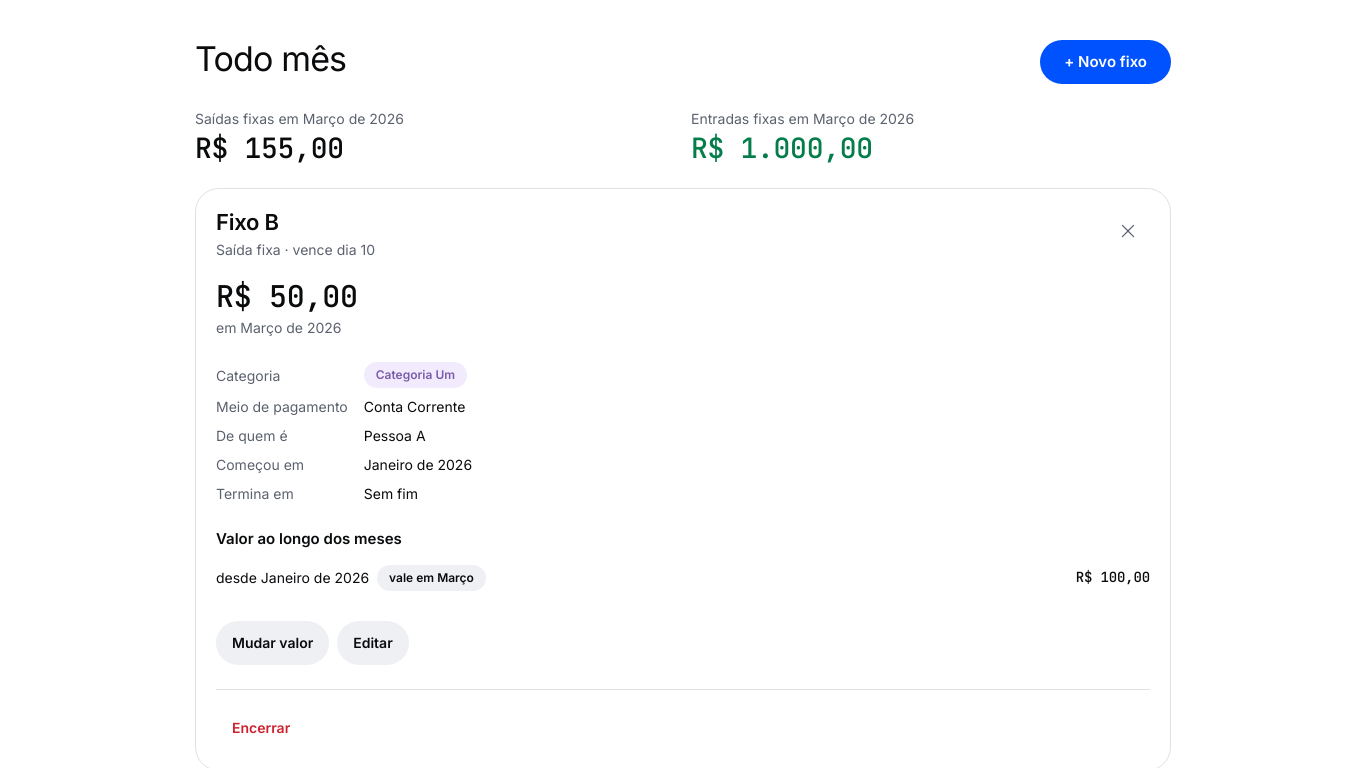
Scenario: o endereço com a navegação pendente (FIXCOL-09, ACs 1 e 4) › com B aberto e a URL com ele, fechar e logo reabrir B pede o endereço com `?fixo=rec-b`
Click the button named "Fechar" at (1128, 231), box [1106, 209, 1150, 253]
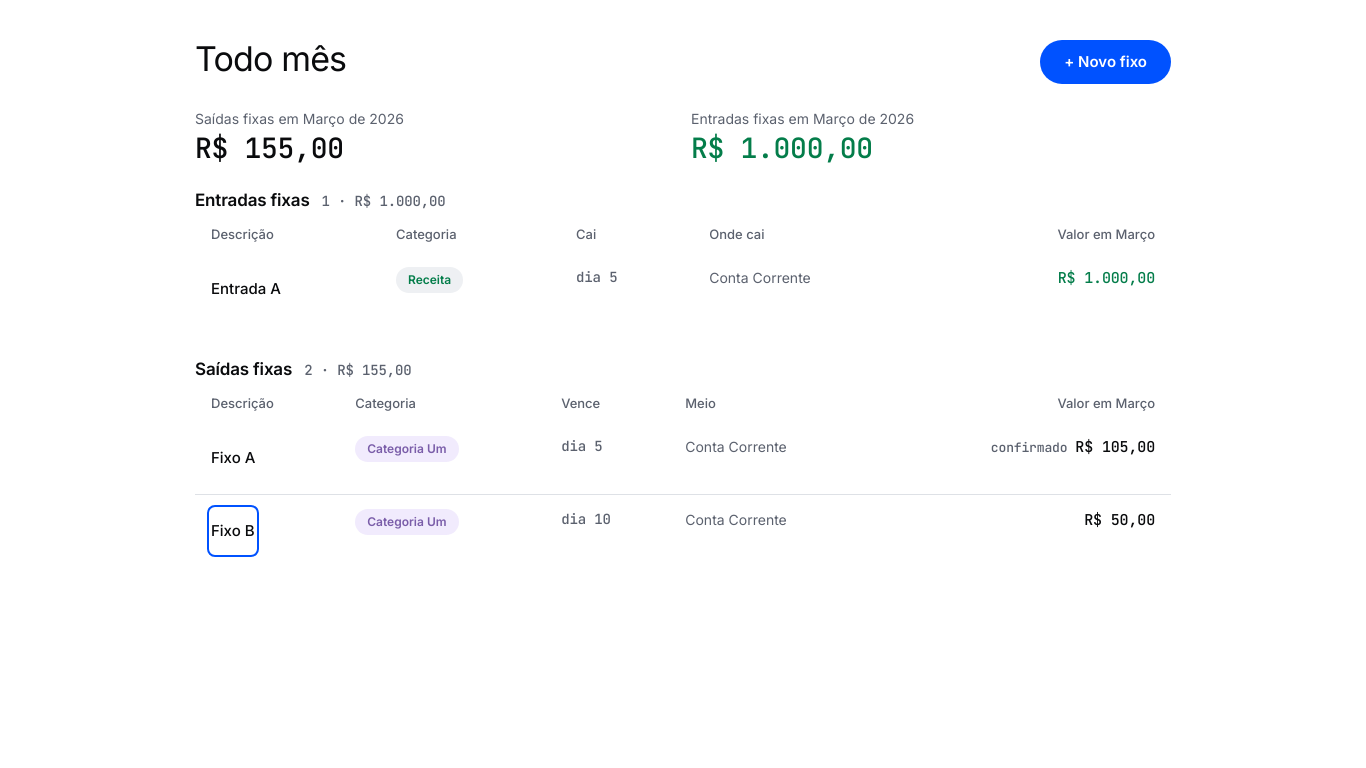
Click the button "Fixo B" at (233, 531), box [211, 509, 255, 553]
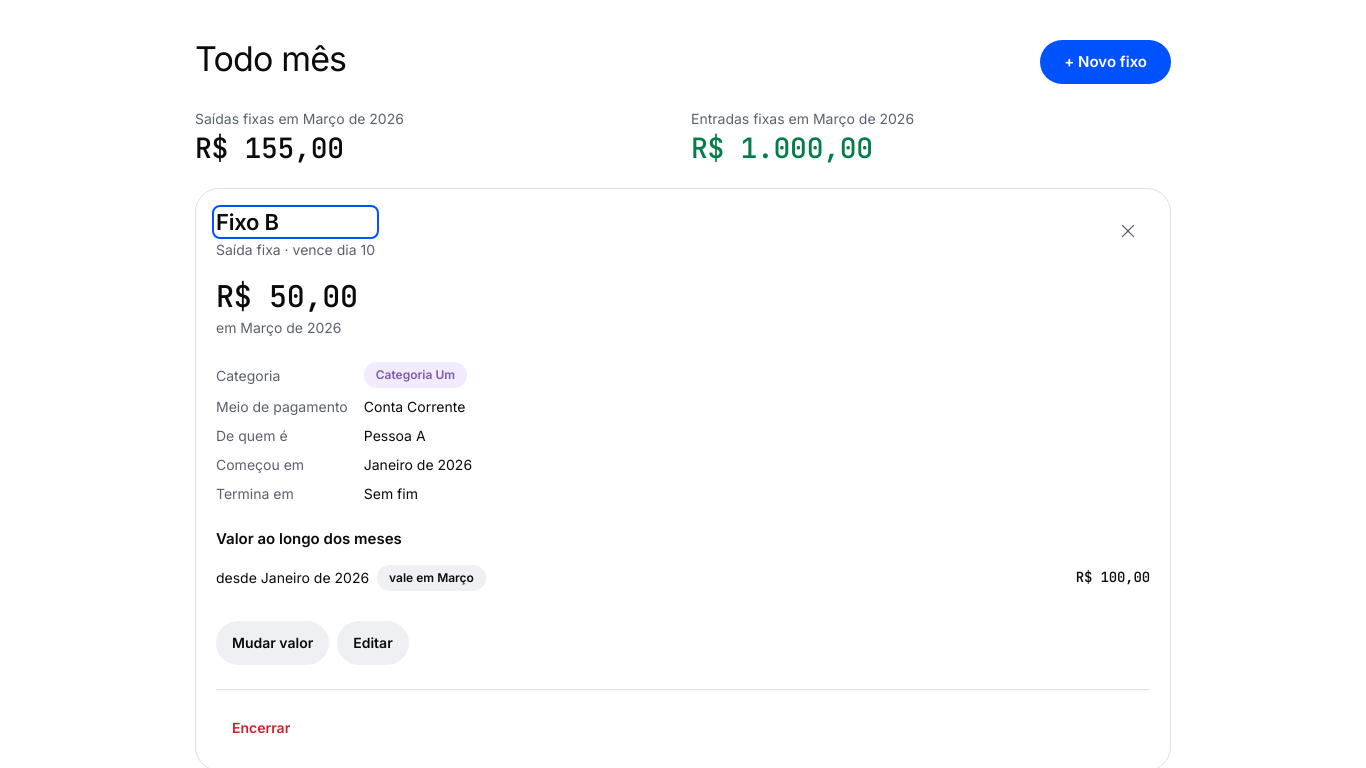
Expected: the heading "Fixo B" is shown, [216, 209, 279, 235]
